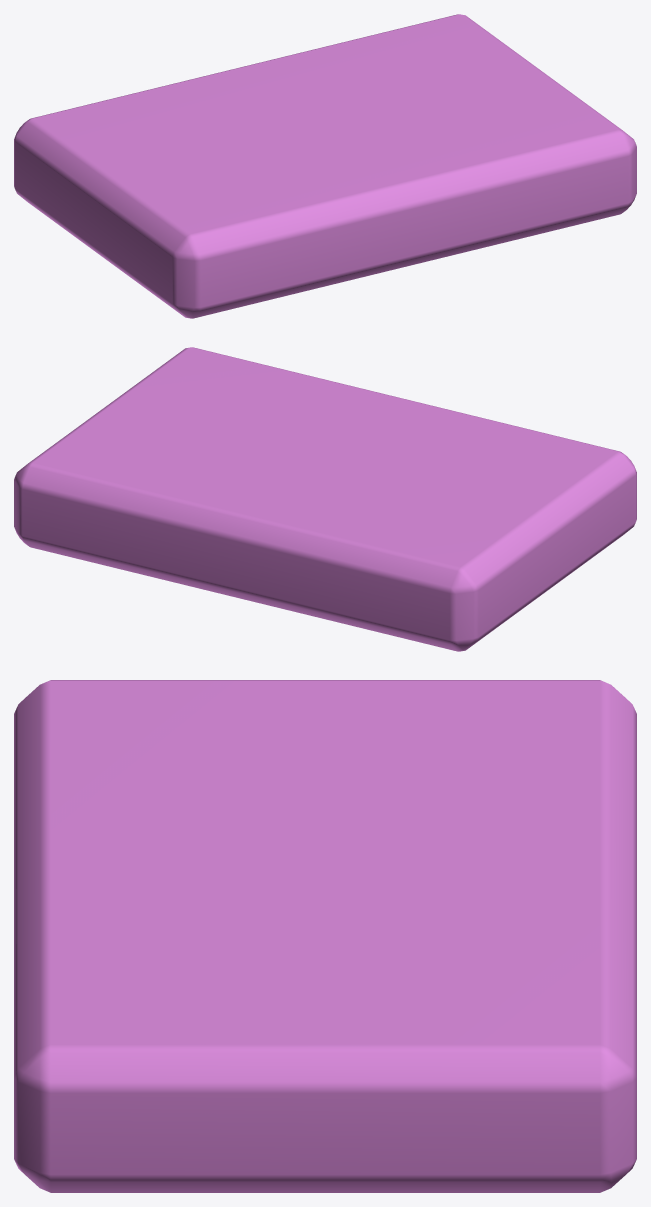
Rendered from Way.fbx.
The picture shows the model from 3 angles, top to bottom: view 1: azimuth 30°, elevation 25°; view 2: azimuth 150°, elevation 25°; view 3: azimuth 270°, elevation 25°; orthographic projection. The views are drawn at different scales.
Visible parts, largest first — view 1: Circle.005; view 2: Circle.005; view 3: Circle.005.
Boxes of the visible parts, x1,y1,x2,y2 form: Circle.005: (14, 14, 636, 318); Circle.005: (14, 347, 636, 651); Circle.005: (14, 680, 636, 1192).
Bounding box in the file's own units: 4 × 0.6978 × 2.67.
